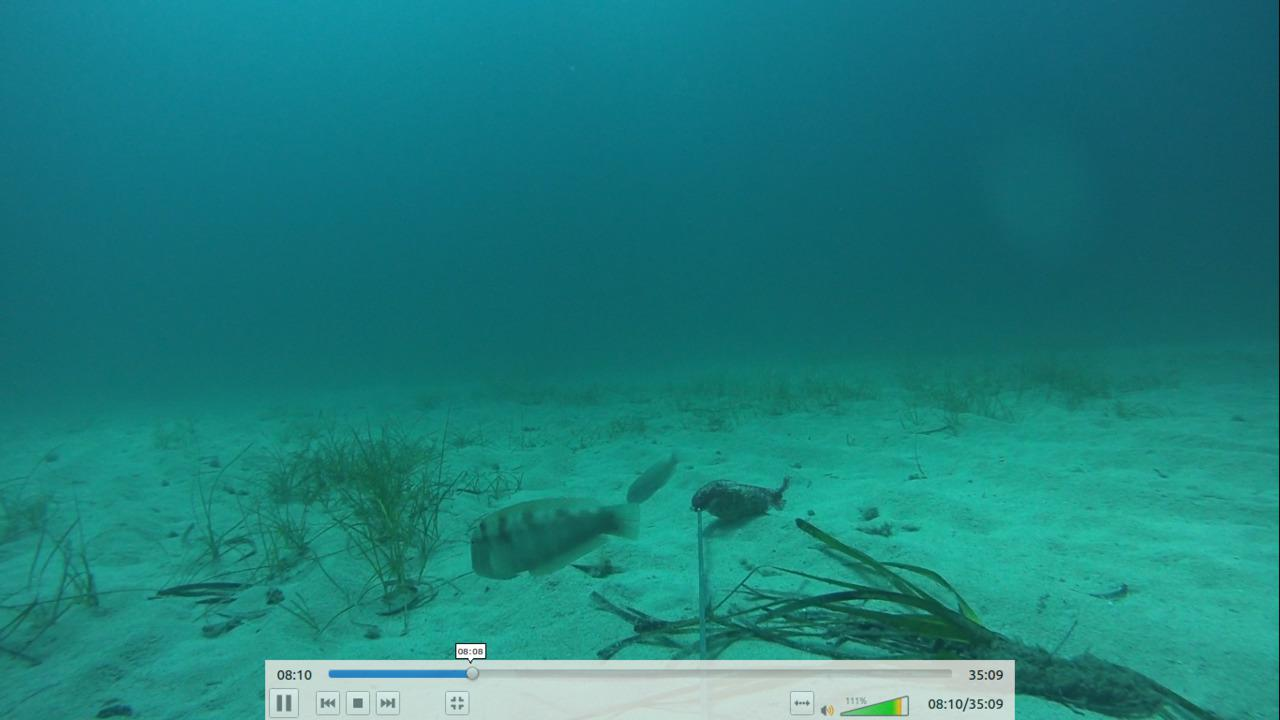raor: (462, 490, 642, 582), (626, 446, 686, 507)
